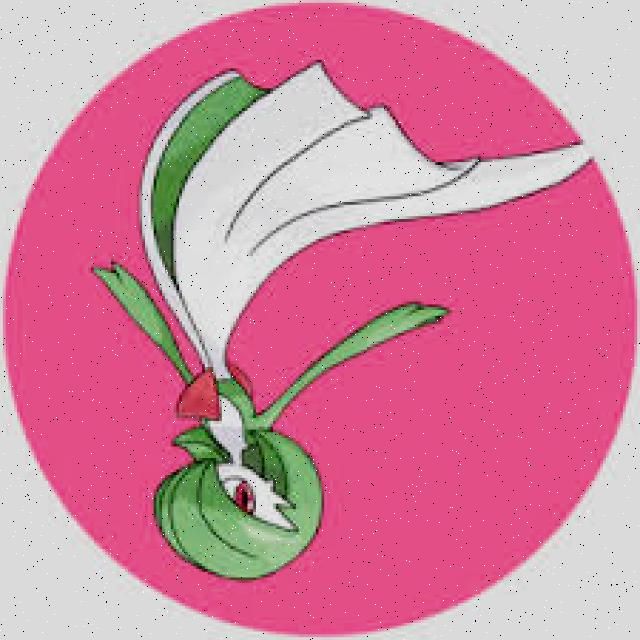gardevoir: (90, 66, 594, 584)
